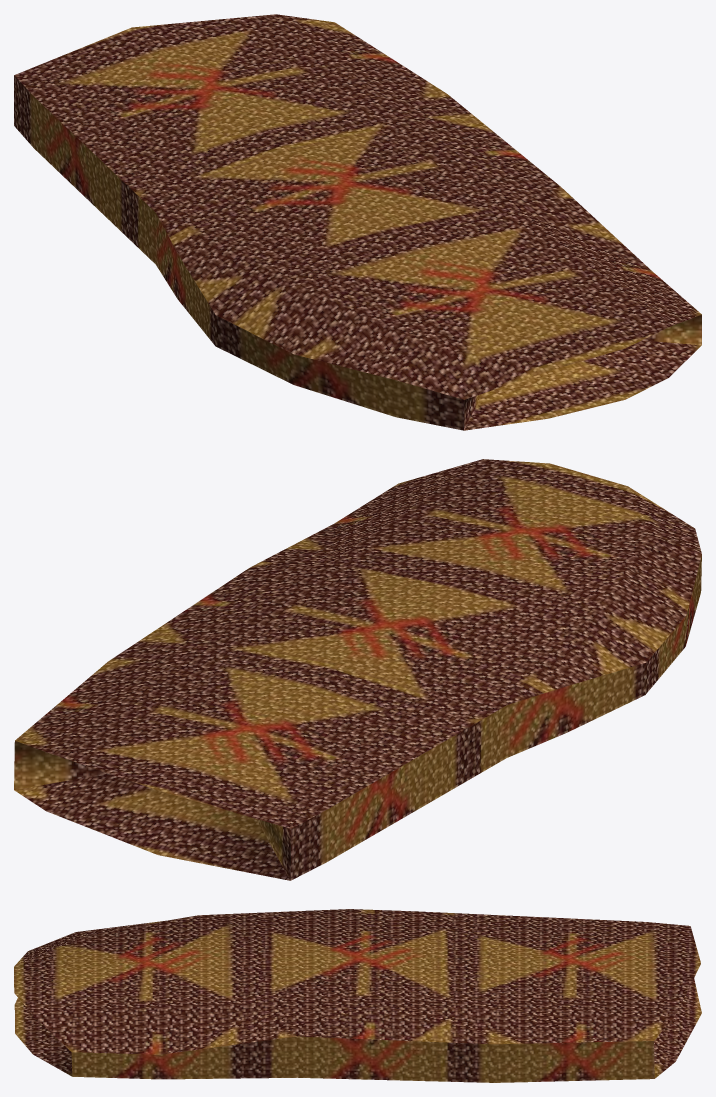
Rendered from skirt.gltf.
The picture shows the model from 3 angles, top to bottom: view 1: azimuth 30°, elevation 25°; view 2: azimuth 150°, elevation 25°; view 3: azimuth 270°, elevation 25°; orthographic projection. The views are drawn at different scales.
Visible parts, largest first — view 1: skirt; view 2: skirt; view 3: skirt.
Boxes of the visible parts, x1,y1,x2,y2 form: skirt: (14, 14, 701, 430); skirt: (14, 459, 701, 880); skirt: (14, 909, 701, 1082).
Size of the model in its own units: 0.2689 by 0.0464 by 0.537.
4 materials, 4 textured.
